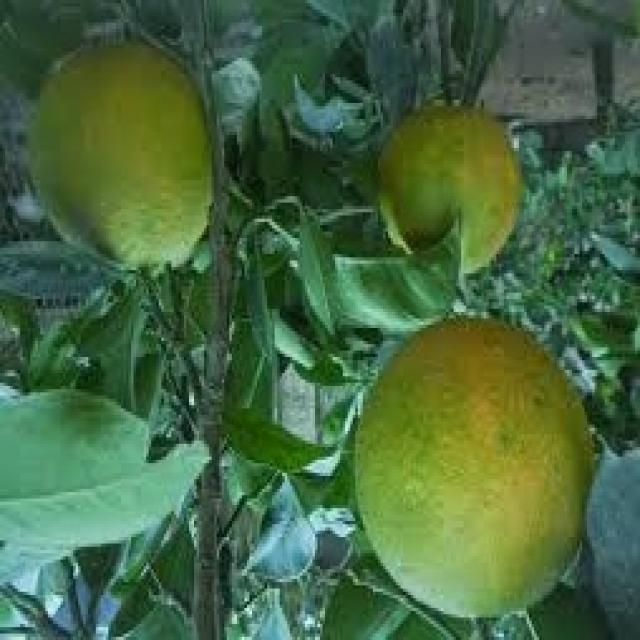Orange: (340, 306, 610, 628), (25, 28, 218, 276), (360, 96, 529, 280)
